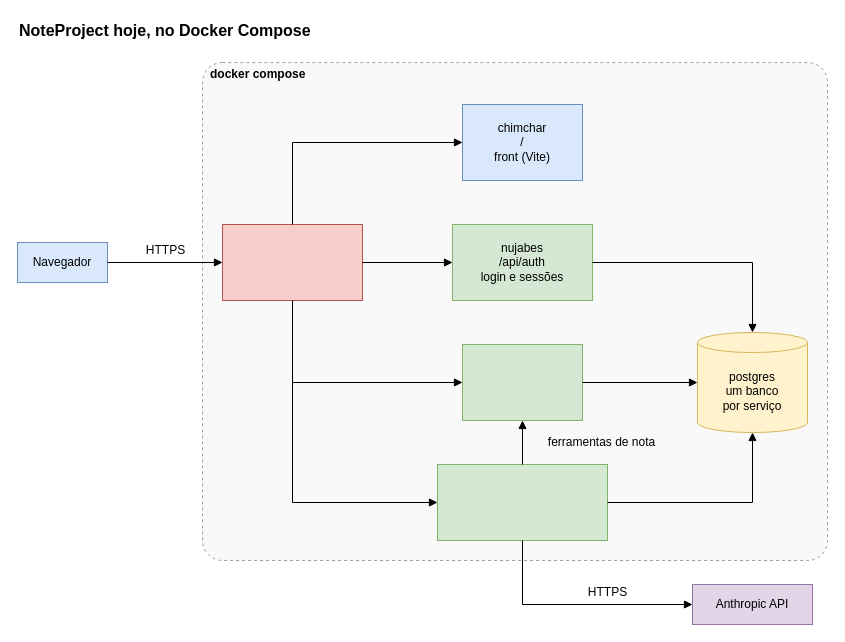
Image size: 845x642. Some labels were removed from this diagram. The box of each missing label's shape, as (x1, y1, x2, y2) in pixels:
caddy HTTPS, rotas, confere a sessão: (222, 224, 362, 300)
ichiro /api/notes notas e busca: (462, 344, 582, 420)
lonzo /api/chat chat, skills, config: (436, 464, 608, 540)
